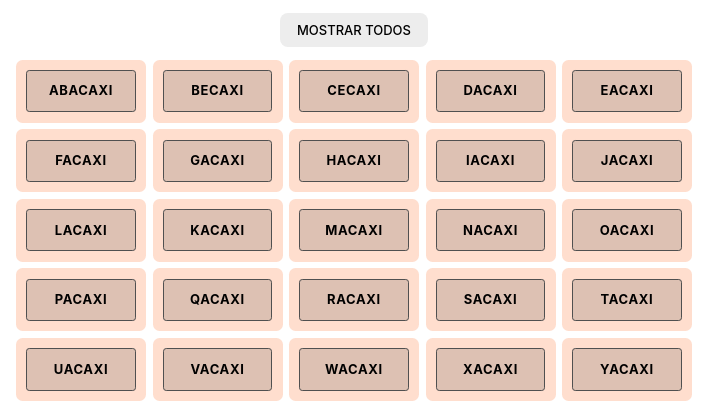
Test: if click button 'MOSTRAR TODOS' show all cards colors and if click again all card back to base color
The image size is (709, 418).
Click the button "MOSTRAR TODOS".
click(354, 30)  # box x1=280 y1=13 x2=428 y2=47
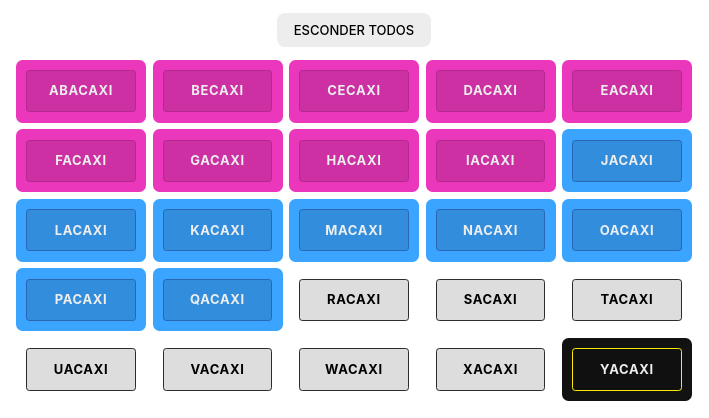
Expected: the button named "MOSTRAR TODOS" reads "ESCONDER TODOS"
Click the button named "MOSTRAR TODOS".
click(354, 30)  # box x1=277 y1=13 x2=431 y2=47
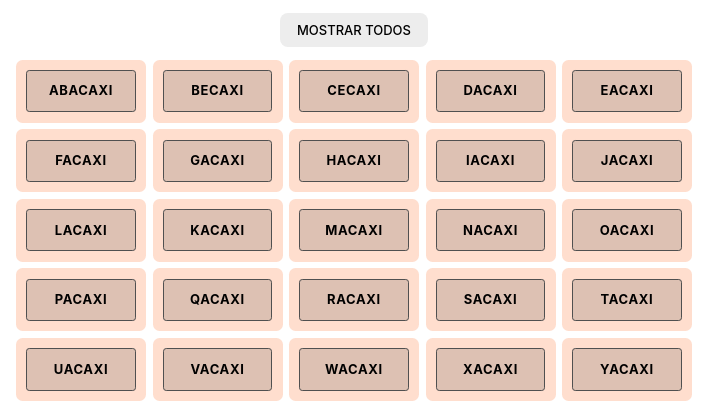
Expected: the button "MOSTRAR TODOS" is shown, x1=280 y1=13 x2=428 y2=47
